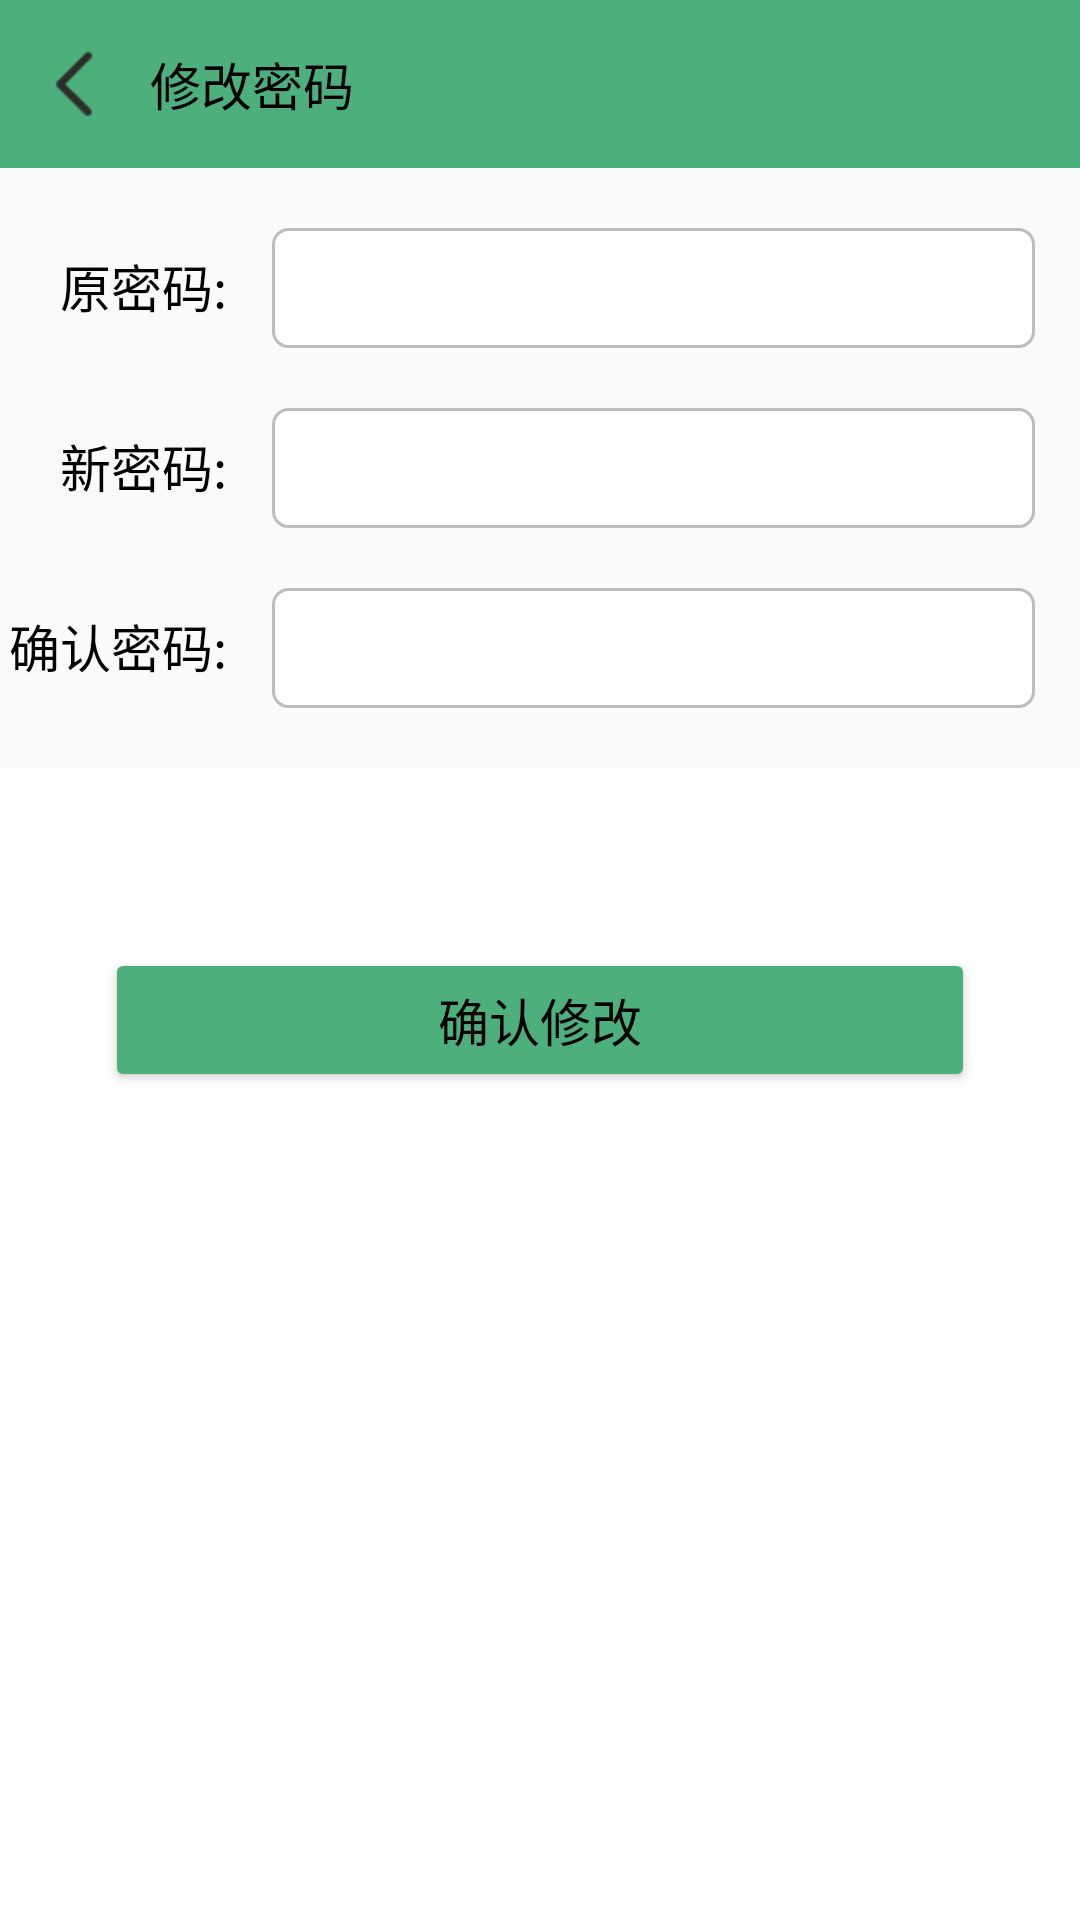

Where to tap for icons on this 1080x1920 app screen, as (x,y):
back: (74,84)
